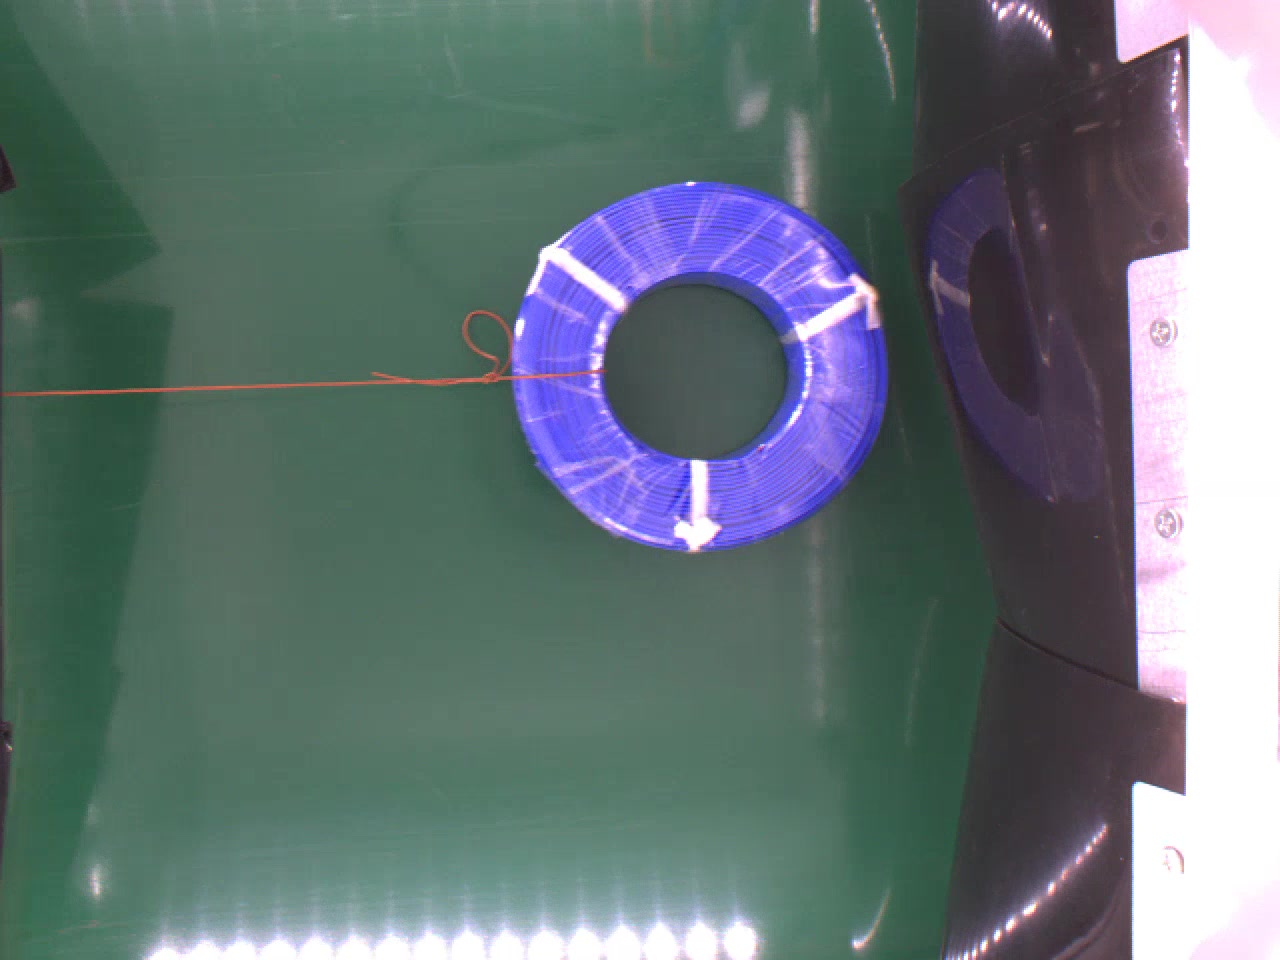blue: (496, 175, 887, 552)
